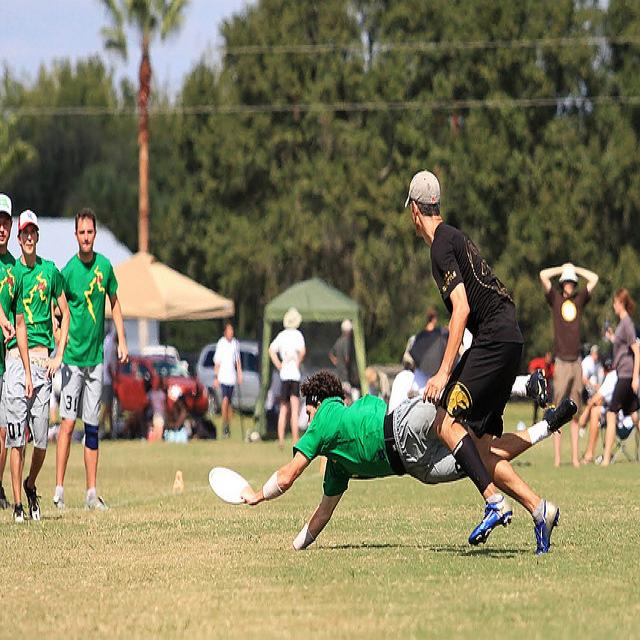Vehicle: (196, 340, 282, 436), (111, 352, 210, 422)
